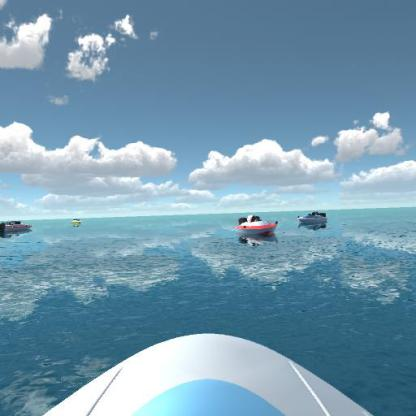usv1: (295, 207, 330, 232)
usv2: (69, 215, 85, 230)
usv3: (233, 211, 280, 240), (0, 217, 35, 237)
